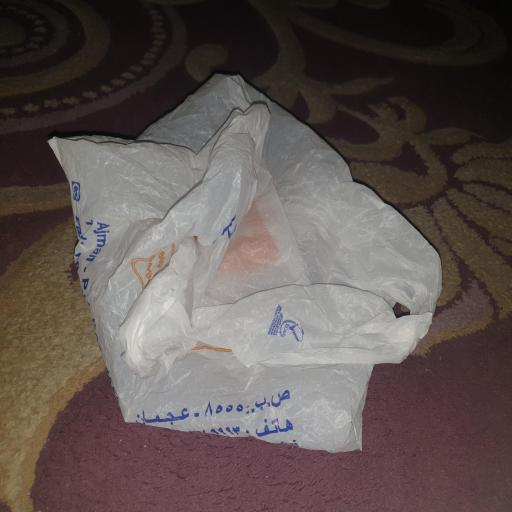plastic bag: (44, 70, 445, 454)
